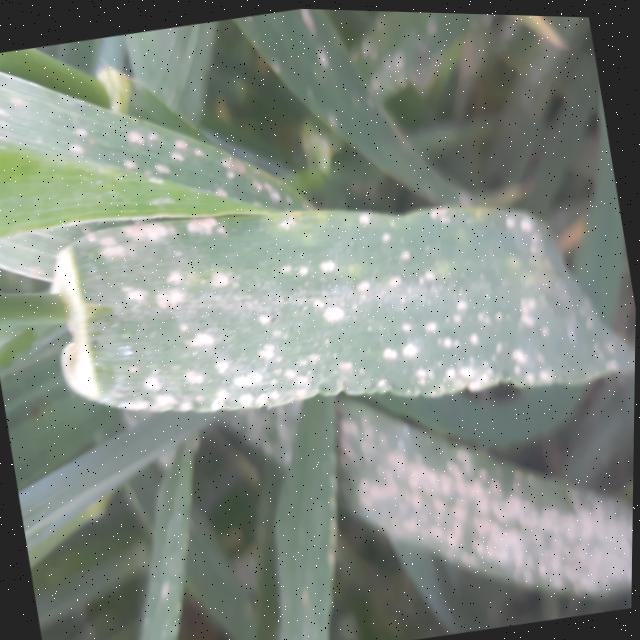powder_mildew: (18, 109, 639, 462), (222, 301, 637, 640), (0, 0, 438, 258), (97, 474, 235, 640), (415, 10, 601, 115), (23, 508, 121, 640)
